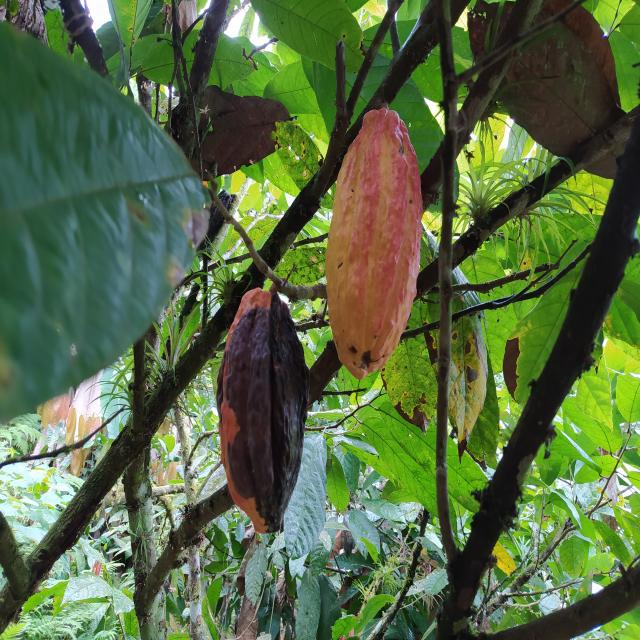Fitoftora: (217, 283, 308, 533)
Sana: (322, 106, 422, 380)
